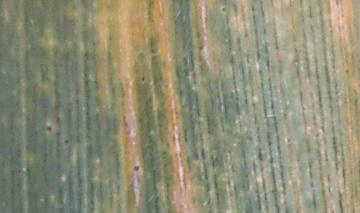tarspot: (45, 123, 53, 132), (132, 164, 141, 172), (219, 4, 227, 12), (63, 137, 70, 145), (197, 43, 204, 51), (141, 74, 145, 82)
